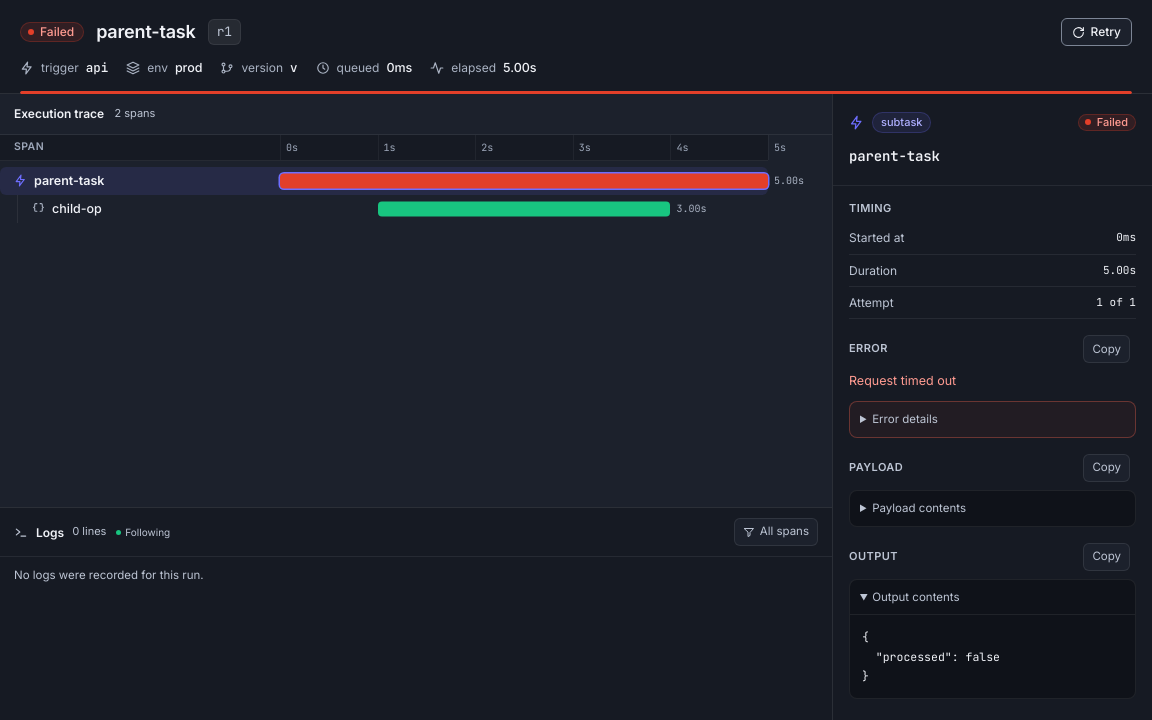
Test: Inspector content and copy feedback › preserves a copy started after DOM commit but before passive effects
What coordinates should you click on to do the following:
click the button with aria-label "Copy Payload"
I would click on:
 (1107, 468)
Its box is x1=1083 y1=454 x2=1130 y2=482.
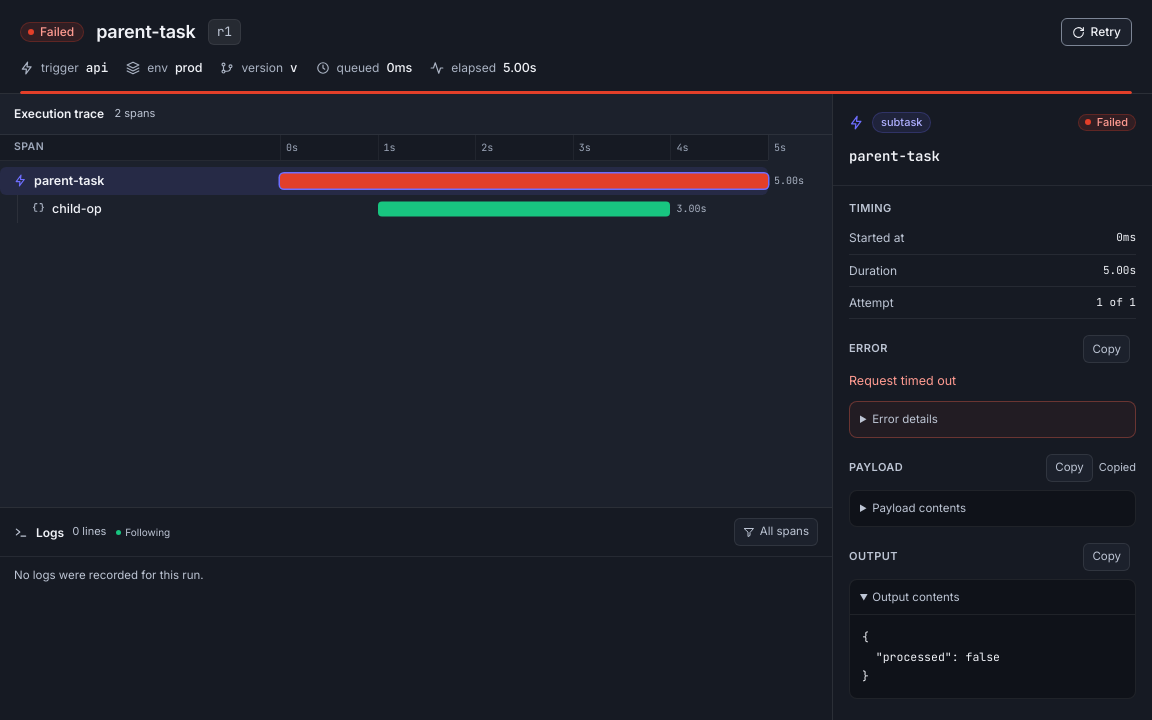
Result: the message "Copied" is shown at x1=1099 y1=460 x2=1136 y2=476
